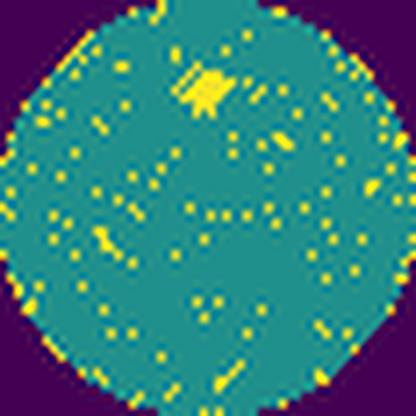Loc: (174, 63, 236, 118)
